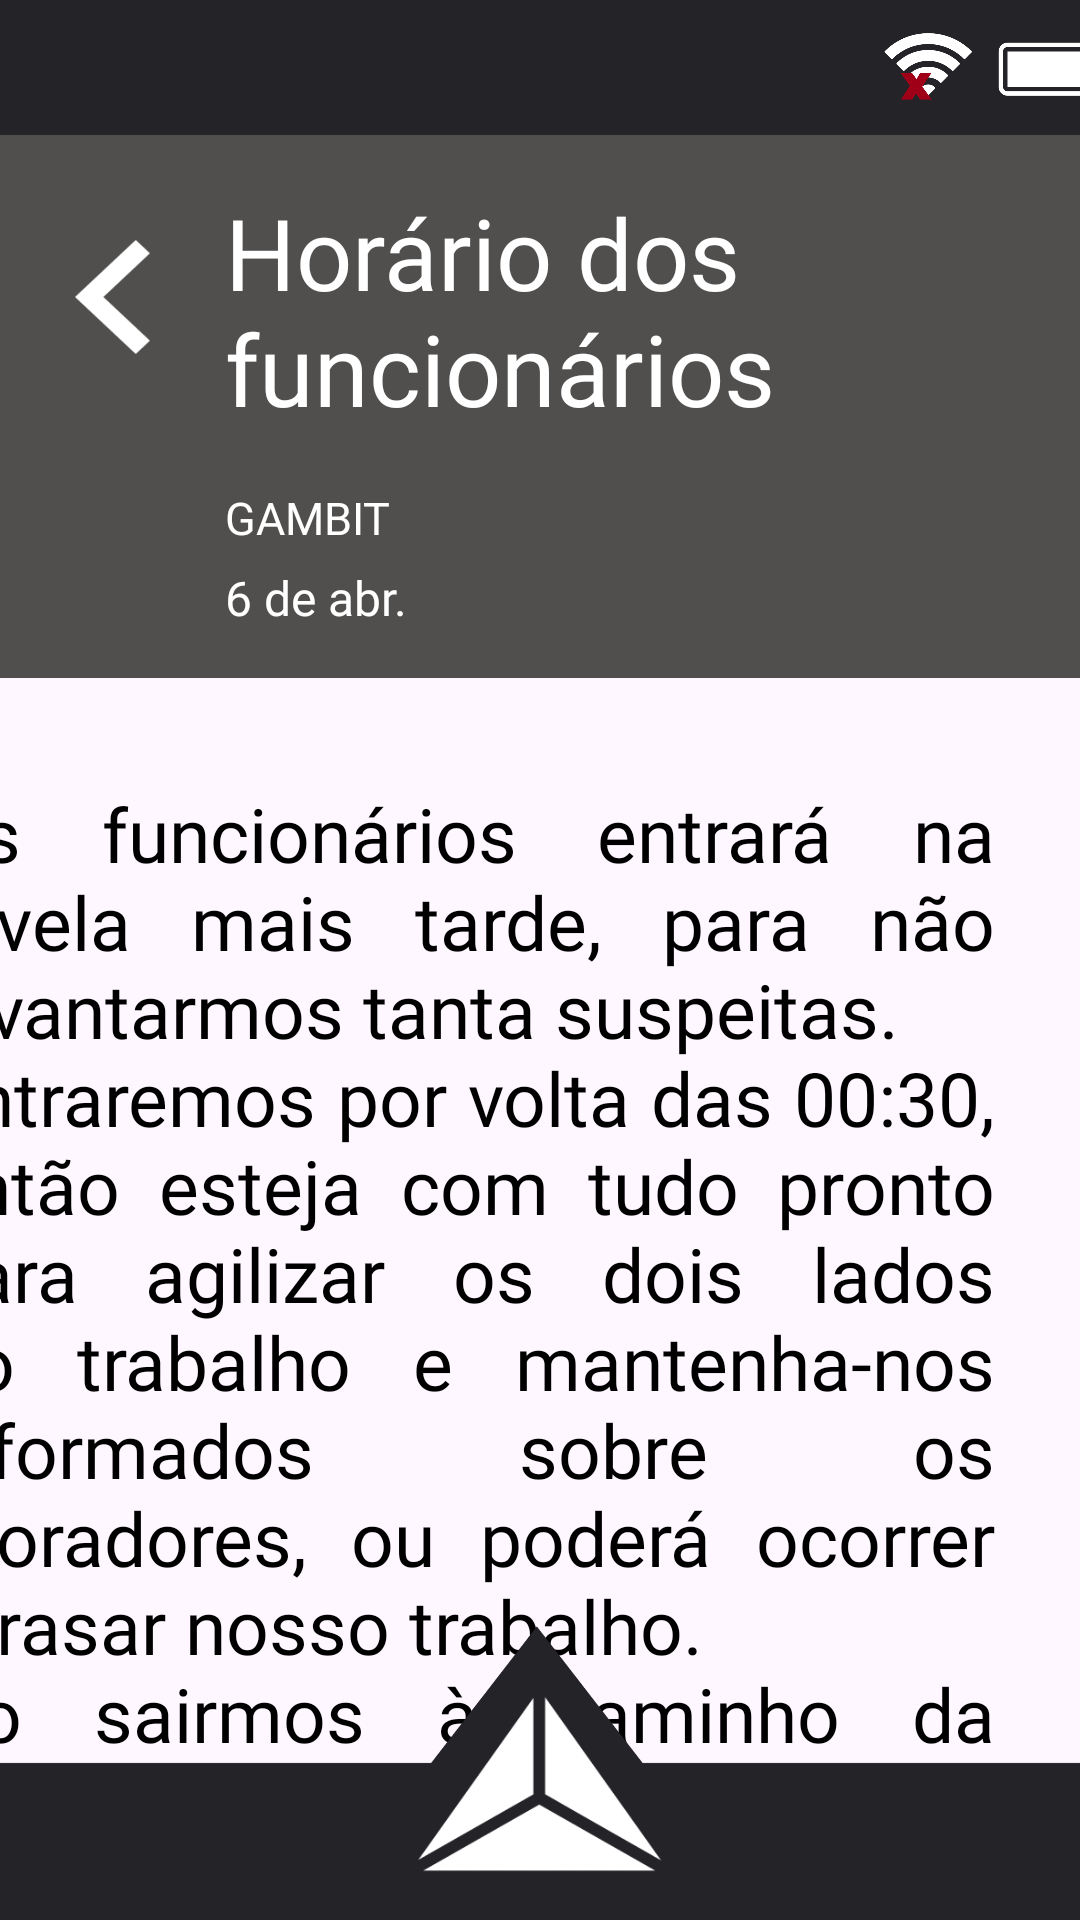

Icons on this 1080 x 1920 Android screen, each with the point to tap as point (x, y):
btnvoltaremail: point (112, 297)
